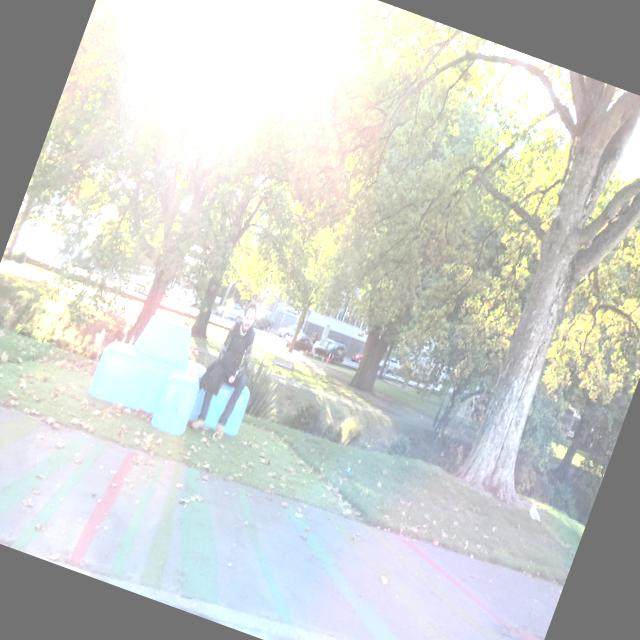Vehicle: (312, 335, 348, 366), (250, 305, 280, 336), (214, 298, 246, 324), (129, 268, 156, 298), (283, 328, 315, 353), (276, 320, 304, 344), (383, 358, 403, 378), (351, 352, 364, 364)
